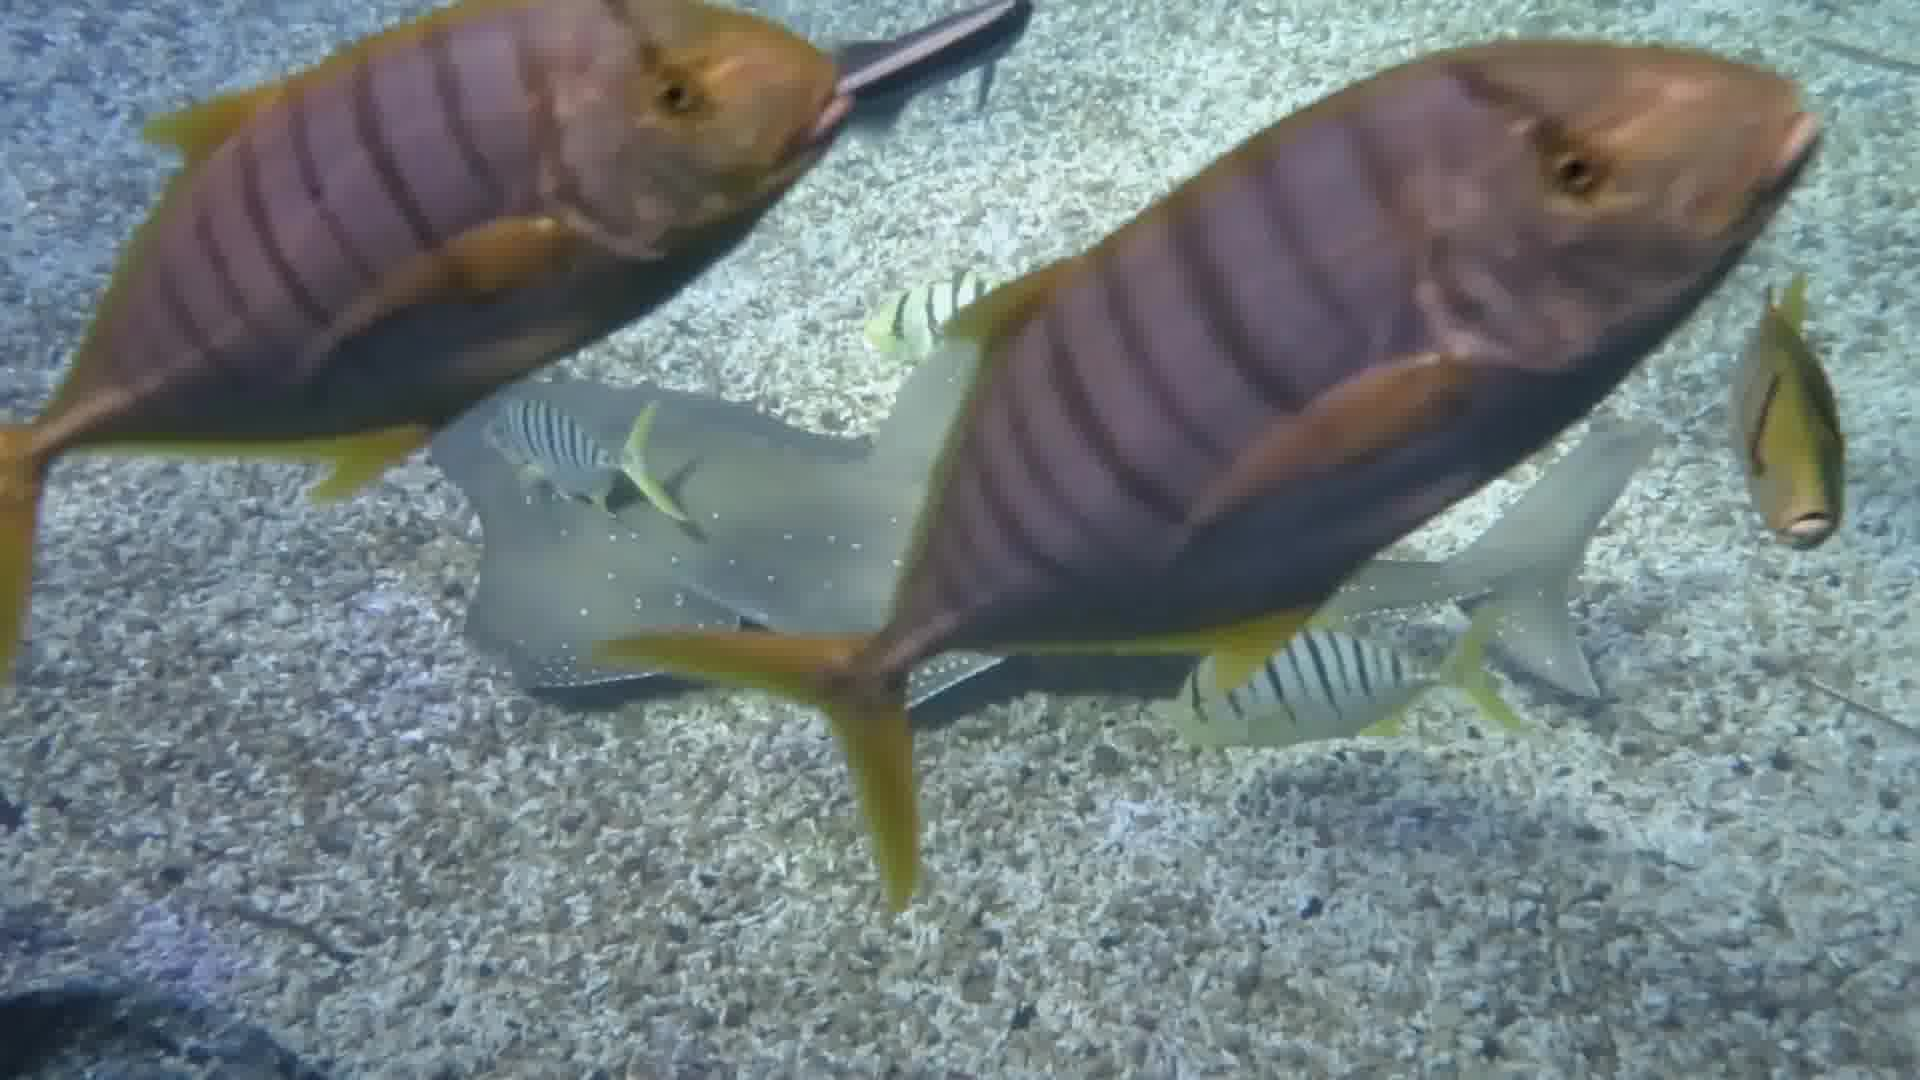Rhychobatus djiddensis: (442, 385, 902, 655)
